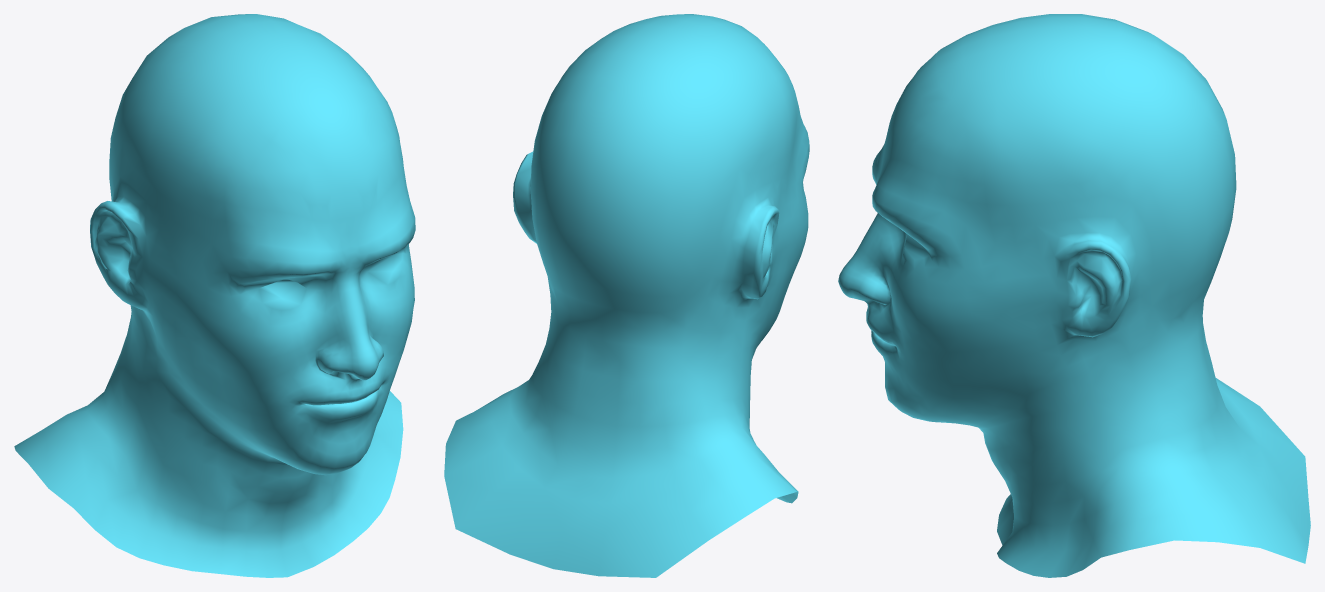
Rendered from head.FBX.
3 views of the same model, side by side, from view 1: azimuth 30°, elevation 25°; view 2: azimuth 150°, elevation 25°; view 3: azimuth 270°, elevation 25° (orthographic). The views are drawn at different scales.
Visible parts, largest first — view 1: head; view 2: head; view 3: head.
Part boxes in pixels (left/top/right/bottom): head: left=14, top=14, right=415, bottom=577; head: left=444, top=14, right=809, bottom=577; head: left=838, top=14, right=1310, bottom=577.
Bounding box in the file's own units: 24.16 × 34.26 × 28.09.
